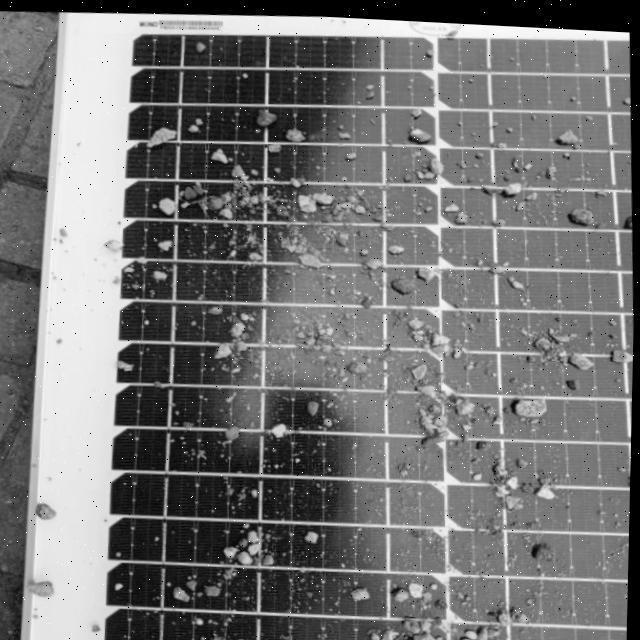Anomaly Solar Panel: (59, 3, 640, 640)
Surface Contaminant: (97, 43, 632, 640)
